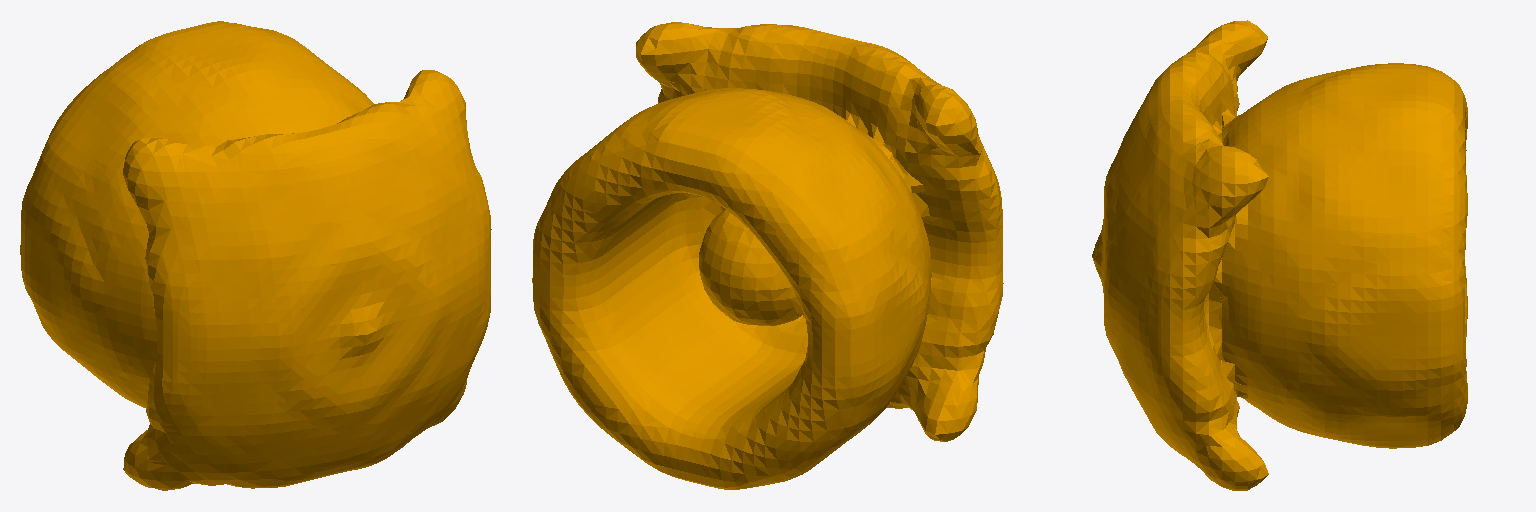
robot.urdf — I11_3:
<?xml version="1.0"?>
<robot name="I11_3">
  <link name="base_link">
    <inertial>
      <mass value="0.06767" />
      <origin xyz="0 0 0" />
      <inertia  ixx="0.0002" ixy="0.0"  ixz="0.0"  iyy="0.0002"  iyz="0.0" izz="0.0002" />
    </inertial>
    <visual>
      <geometry>
        <mesh filename="../../../meshes/egad/train/I11_3.obj" />
      </geometry>
    </visual>
    <collision>
      <geometry>
        <mesh filename="../../../meshes/egad/train/I11_3.obj" />
      </geometry>
    </collision>
  </link>
</robot>

--- Facts derived from the render (not from the file) ---
The picture shows the robot from 3 angles, left to right: view 1: azimuth 30°, elevation 25°; view 2: azimuth 150°, elevation 25°; view 3: azimuth 270°, elevation 25°; orthographic projection.
Model I11_3 with 1 links and 0 joints (none), rooted at base_link, posed every joint at zero.
Links seen in each view (by area): view 1: base_link; view 2: base_link; view 3: base_link.
Link boxes in pixels (x1,y1,x2,y2): base_link: (20, 21, 491, 490); base_link: (532, 22, 1003, 489); base_link: (1092, 20, 1467, 490).
Size in the robot's own frame: 0.0605 by 0.06 by 0.0605 metres.
Meshes: 1 distinct files referenced, 1 mesh visuals loaded (1 OBJ).
